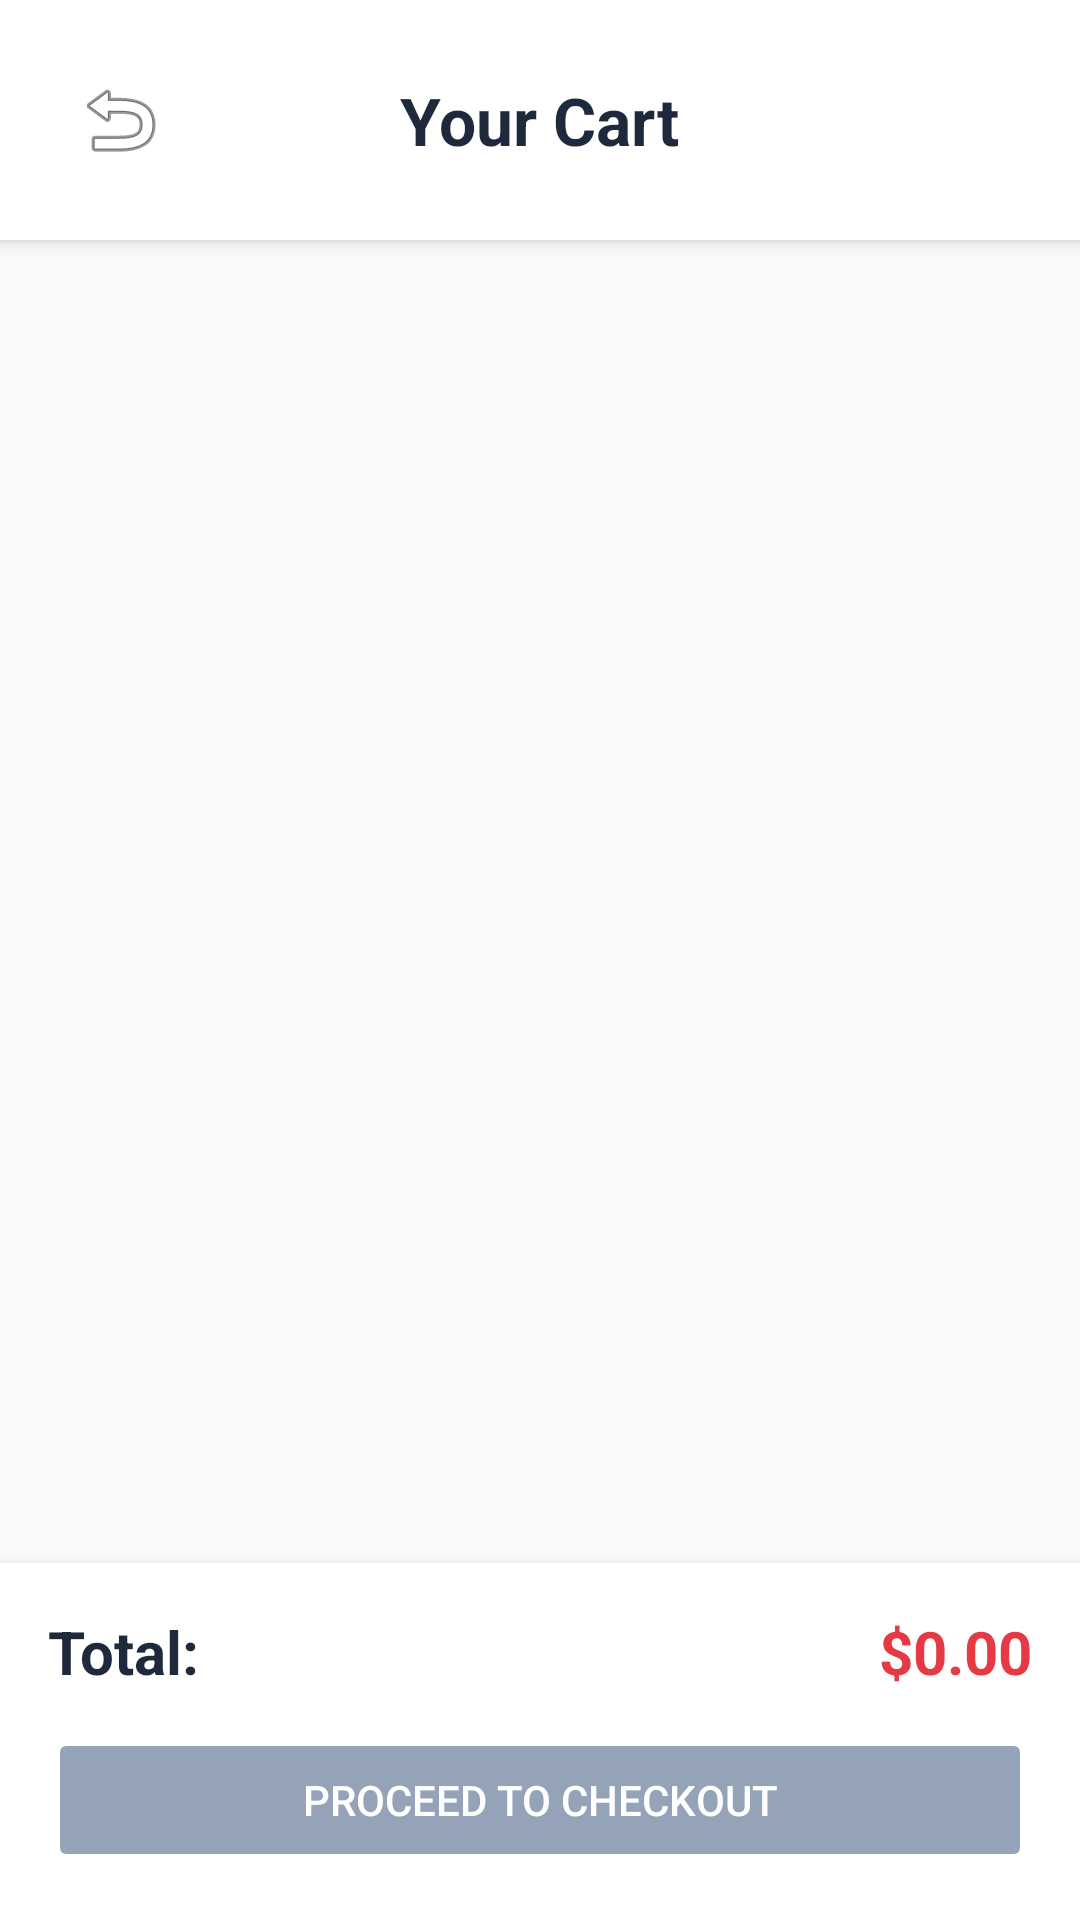

Locate icon controls on the screen. Image size 1080px×1920px, boxes as (x1, y1, x2, y2).
Back: (87, 89, 156, 152)
